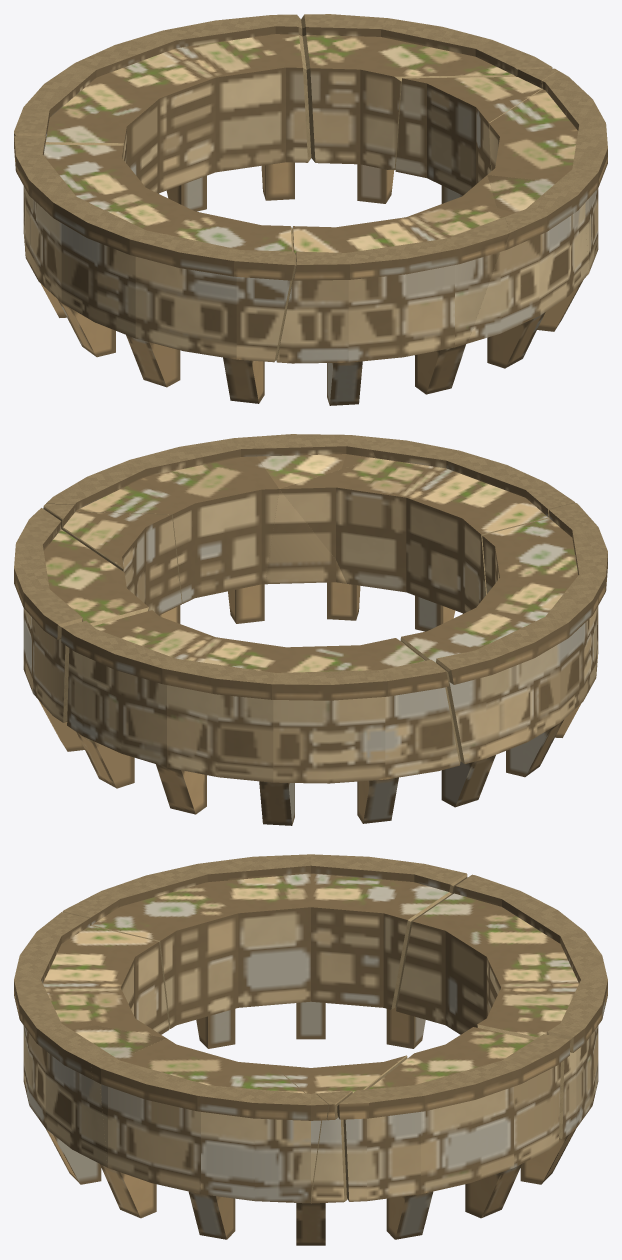
File: Kit_Tower_Crown_Fractured.fbx
3 views of the same model, one above another, from view 1: azimuth 30°, elevation 25°; view 2: azimuth 150°, elevation 25°; view 3: azimuth 270°, elevation 25° (orthographic).
Visible parts, largest first — view 1: Kit_Tower_Crown_frag_02, Kit_Tower_Crown_frag_03, Kit_Tower_Crown_frag_01, Kit_Tower_Crown_frag_05, Kit_Tower_Crown_frag_04, Kit_Tower_Crown_frag_07, Kit_Tower_Crown_frag_06; view 2: Kit_Tower_Crown_frag_03, Kit_Tower_Crown_frag_02, Kit_Tower_Crown_frag_01, Kit_Tower_Crown_frag_06, Kit_Tower_Crown_frag_05, Kit_Tower_Crown_frag_04, Kit_Tower_Crown_frag_07; view 3: Kit_Tower_Crown_frag_02, Kit_Tower_Crown_frag_05, Kit_Tower_Crown_frag_06, Kit_Tower_Crown_frag_03, Kit_Tower_Crown_frag_01, Kit_Tower_Crown_frag_04, Kit_Tower_Crown_frag_07.
Boxes of the visible parts, x1=… form: Kit_Tower_Crown_frag_02: x1=14, y1=135, x2=296, y2=403; Kit_Tower_Crown_frag_03: x1=14, y1=14, x2=311, y2=242; Kit_Tower_Crown_frag_01: x1=276, y1=175, x2=509, y2=405; Kit_Tower_Crown_frag_05: x1=301, y1=14, x2=552, y2=203; Kit_Tower_Crown_frag_04: x1=467, y1=175, x2=593, y2=368; Kit_Tower_Crown_frag_07: x1=395, y1=68, x2=557, y2=195; Kit_Tower_Crown_frag_06: x1=487, y1=70, x2=607, y2=273; Kit_Tower_Crown_frag_03: x1=61, y1=610, x2=460, y2=825; Kit_Tower_Crown_frag_02: x1=400, y1=503, x2=607, y2=807; Kit_Tower_Crown_frag_01: x1=279, y1=440, x2=575, y2=631; Kit_Tower_Crown_frag_06: x1=46, y1=437, x2=279, y2=623; Kit_Tower_Crown_frag_05: x1=14, y1=508, x2=148, y2=751; Kit_Tower_Crown_frag_04: x1=228, y1=434, x2=402, y2=623; Kit_Tower_Crown_frag_07: x1=43, y1=504, x2=181, y2=615; Kit_Tower_Crown_frag_02: x1=62, y1=854, x2=467, y2=1048; Kit_Tower_Crown_frag_05: x1=337, y1=1027, x2=570, y2=1239; Kit_Tower_Crown_frag_06: x1=91, y1=1038, x2=328, y2=1239; Kit_Tower_Crown_frag_03: x1=395, y1=874, x2=607, y2=1184; Kit_Tower_Crown_frag_01: x1=14, y1=912, x2=169, y2=1087; Kit_Tower_Crown_frag_04: x1=19, y1=1006, x2=165, y2=1218; Kit_Tower_Crown_frag_07: x1=272, y1=1055, x2=407, y2=1245.
Size of what is drawn, in the model's own units: 4.84 by 1.42 by 4.84.
Materials: 2 (2 with a texture image).
